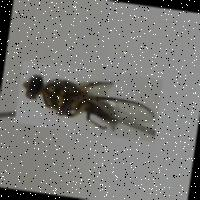Oriental-fruit-fly: (15, 60, 162, 142)
